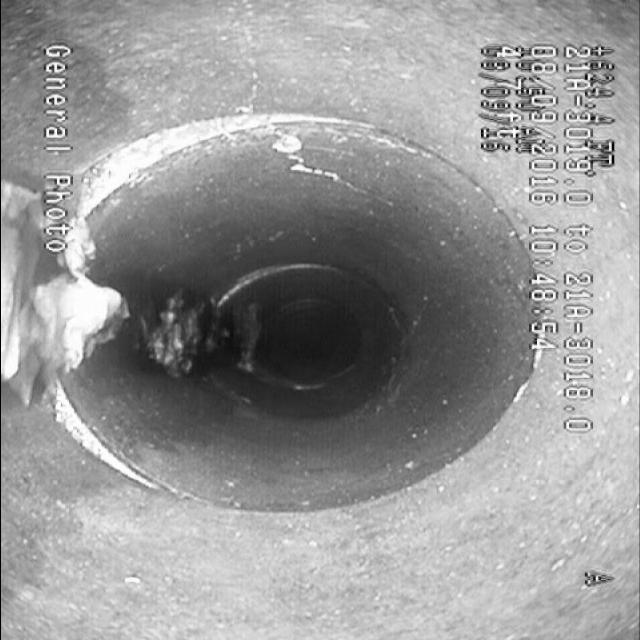Crack: (203, 50, 363, 192)
